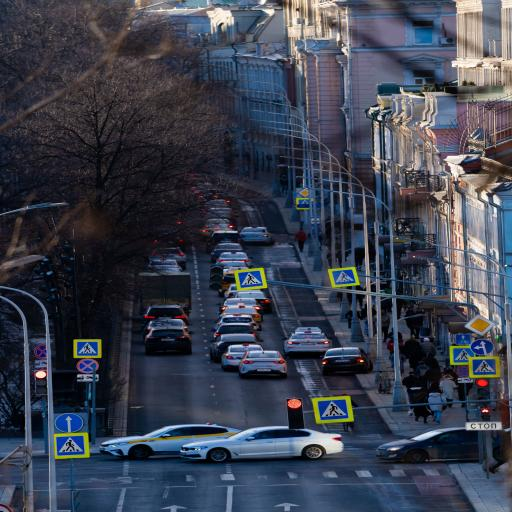car: (181, 427, 343, 462), (100, 424, 240, 459), (376, 428, 478, 463), (145, 325, 193, 355), (322, 348, 373, 375), (210, 334, 259, 362), (239, 351, 287, 378), (222, 343, 263, 371), (285, 333, 332, 356), (141, 304, 189, 325), (219, 305, 262, 328), (211, 323, 262, 341), (218, 267, 247, 296), (234, 291, 272, 313), (206, 231, 244, 251), (142, 319, 186, 336), (152, 248, 186, 270), (213, 314, 259, 329), (241, 227, 275, 245), (211, 243, 243, 262), (205, 211, 237, 229), (147, 257, 182, 273), (217, 298, 259, 310), (202, 220, 234, 234), (217, 251, 252, 261), (207, 207, 237, 217), (216, 260, 252, 268), (224, 282, 239, 299), (208, 199, 230, 207), (294, 327, 323, 333)
